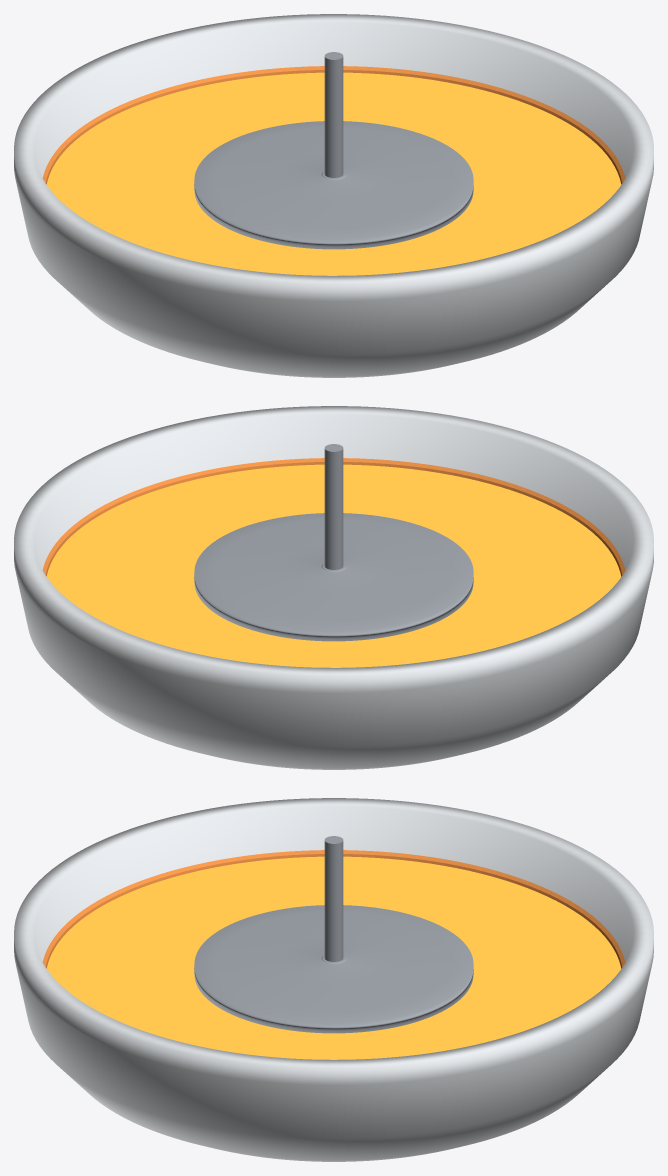
Rendered from 01_01_CZ_growth.glb.
3 views of the same model, one above another, from view 1: azimuth 30°, elevation 25°; view 2: azimuth 150°, elevation 25°; view 3: azimuth 270°, elevation 25° (orthographic).
Parts seen in each view (by area): view 1: Quartz crucible | cutaway-free open vessel, Molten silicon, Growing single crystal, Hot zone, Seed crystal and pulling rod; view 2: Quartz crucible | cutaway-free open vessel, Molten silicon, Growing single crystal, Hot zone, Seed crystal and pulling rod; view 3: Quartz crucible | cutaway-free open vessel, Molten silicon, Growing single crystal, Hot zone, Seed crystal and pulling rod.
Boxes of the visible parts, x1,y1,x2,y2 form: Quartz crucible | cutaway-free open vessel: (14, 14, 653, 377); Molten silicon: (46, 72, 621, 275); Growing single crystal: (194, 121, 473, 249); Hot zone: (42, 66, 625, 184); Seed crystal and pulling rod: (324, 52, 343, 177); Quartz crucible | cutaway-free open vessel: (14, 406, 653, 769); Molten silicon: (46, 464, 621, 667); Growing single crystal: (194, 513, 473, 641); Hot zone: (42, 458, 625, 576); Seed crystal and pulling rod: (324, 444, 343, 569); Quartz crucible | cutaway-free open vessel: (14, 798, 653, 1161); Molten silicon: (46, 856, 621, 1059); Growing single crystal: (194, 905, 473, 1033); Hot zone: (42, 850, 625, 968); Seed crystal and pulling rod: (324, 836, 343, 961).
Size of the model in its own units: 3.44 by 1.3 by 3.44.
